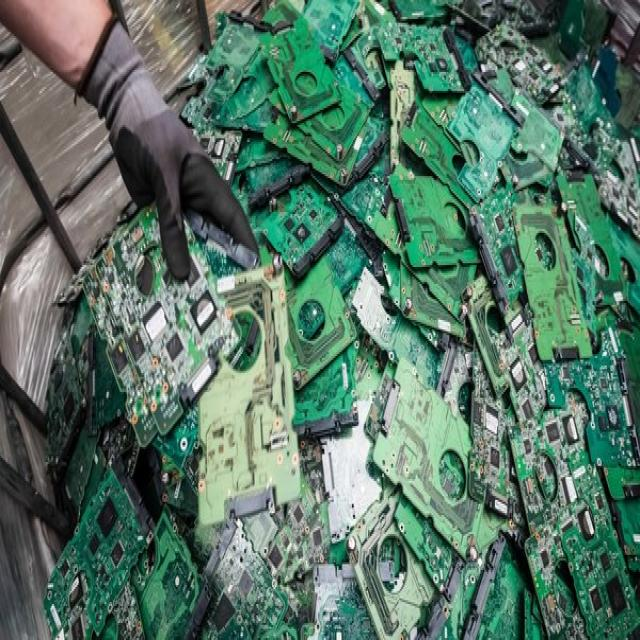hazard: (49, 0, 640, 627)
